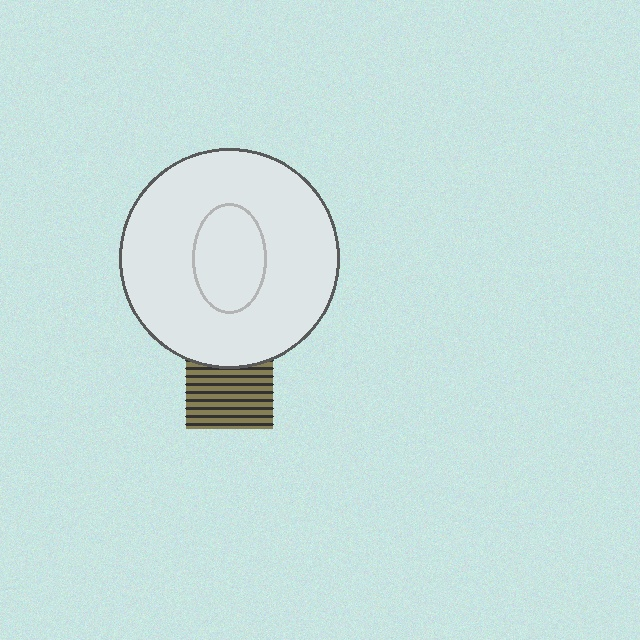bulb: (115, 144, 343, 433)
